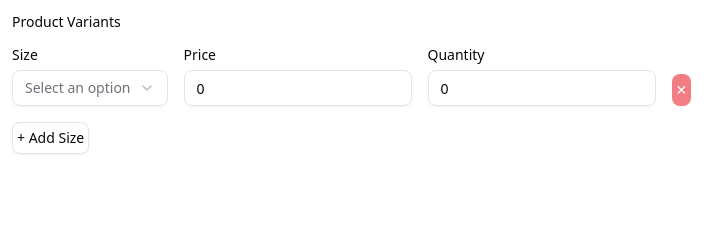
can add and remove product variants
Click the button "+ Add Size": click(51, 138) [12,122,89,154]
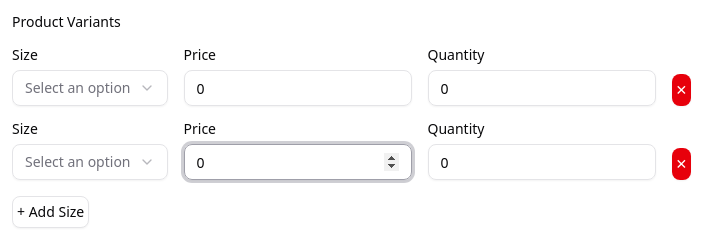
Result: the number of buttons "✕" is 2
Click the 1st button "✕": click(681, 90) [672,74,691,106]
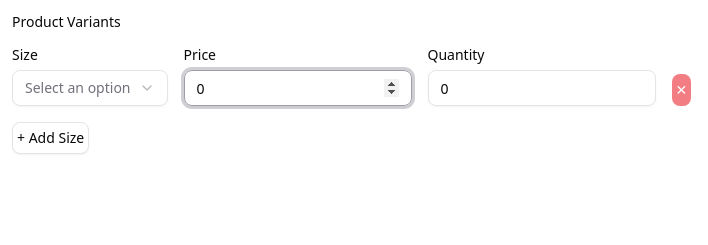
Result: the number of buttons "✕" is 1 at [672,74,691,106]
